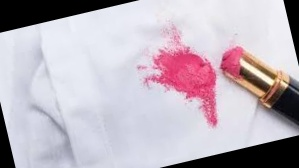lipstick: (132, 23, 234, 138)
